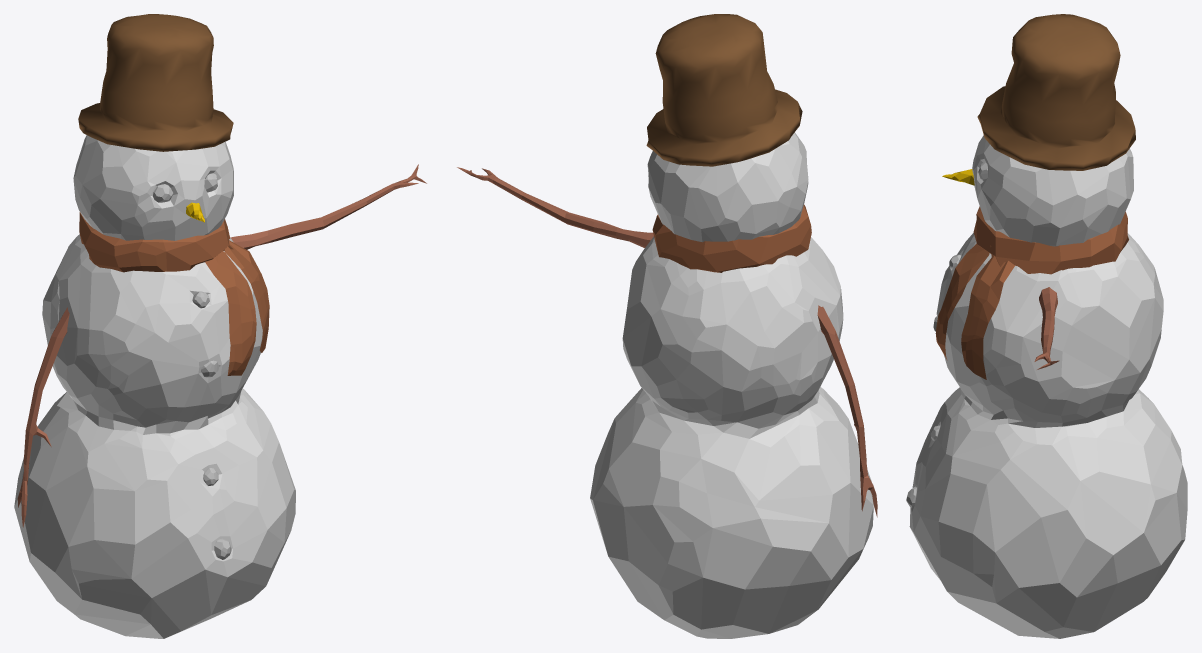
The model's file is Snowman.fbx.
3 renders of one model, left to right at view 1: azimuth 30°, elevation 25°; view 2: azimuth 150°, elevation 25°; view 3: azimuth 270°, elevation 25°, orthographic.
Parts seen in each view (by area): view 1: Basemesh, Hat, Scarf, Lt_arm, Rt_arm; view 2: Basemesh, Hat, Scarf, Rt_arm, Lt_arm; view 3: Basemesh, Hat, Scarf, Lt_arm.
Part boxes in pixels (box(x1,y1,x2,y2)): Basemesh: box(14, 135, 295, 638); Hat: box(78, 14, 233, 151); Scarf: box(79, 212, 269, 375); Lt_arm: box(230, 164, 426, 249); Rt_arm: box(17, 307, 69, 527); Basemesh: box(590, 132, 873, 638); Hat: box(646, 14, 802, 166); Scarf: box(652, 204, 811, 272); Rt_arm: box(817, 305, 877, 517); Lt_arm: box(457, 167, 653, 247); Basemesh: box(909, 135, 1187, 638); Hat: box(977, 14, 1135, 170); Scarf: box(935, 206, 1128, 379); Lt_arm: box(1034, 287, 1059, 369).
Size of the model in its own units: 25.43 by 35.67 by 15.08.
